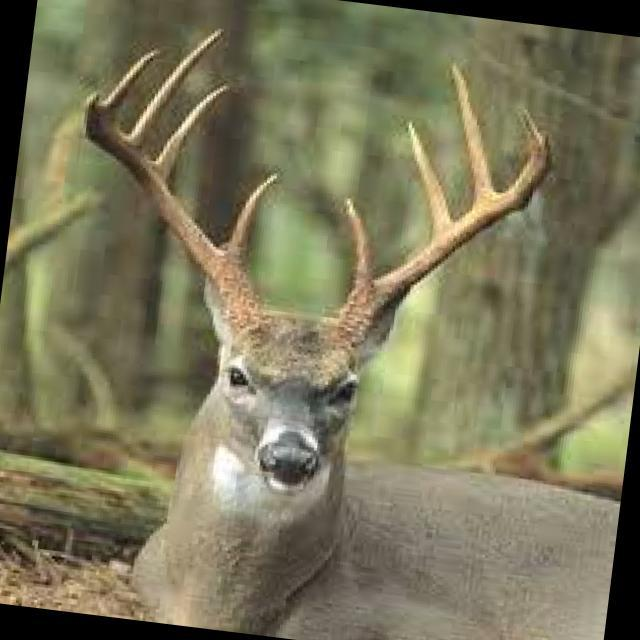L-F: (334, 108, 549, 346)
L-G1: (345, 197, 373, 304)
L-G2: (407, 121, 452, 234)
L-G3: (451, 63, 494, 199)
R-F: (84, 94, 265, 331)
R-G1: (226, 172, 277, 253)
R-G2: (153, 82, 230, 179)
R-G3: (123, 26, 226, 145)
R-G4: (96, 48, 161, 108)
